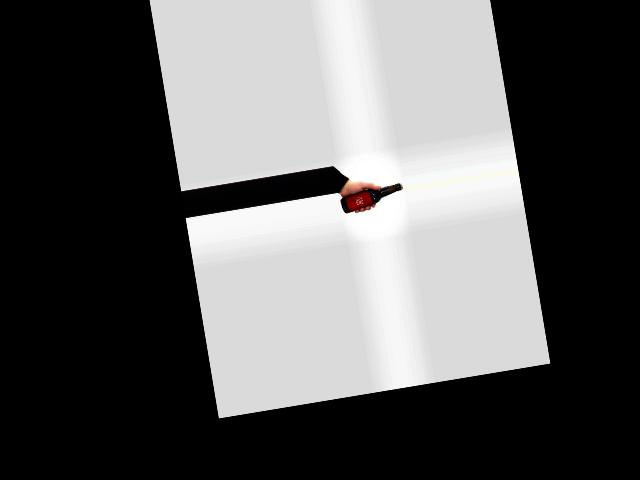beer: (339, 182, 405, 214)
